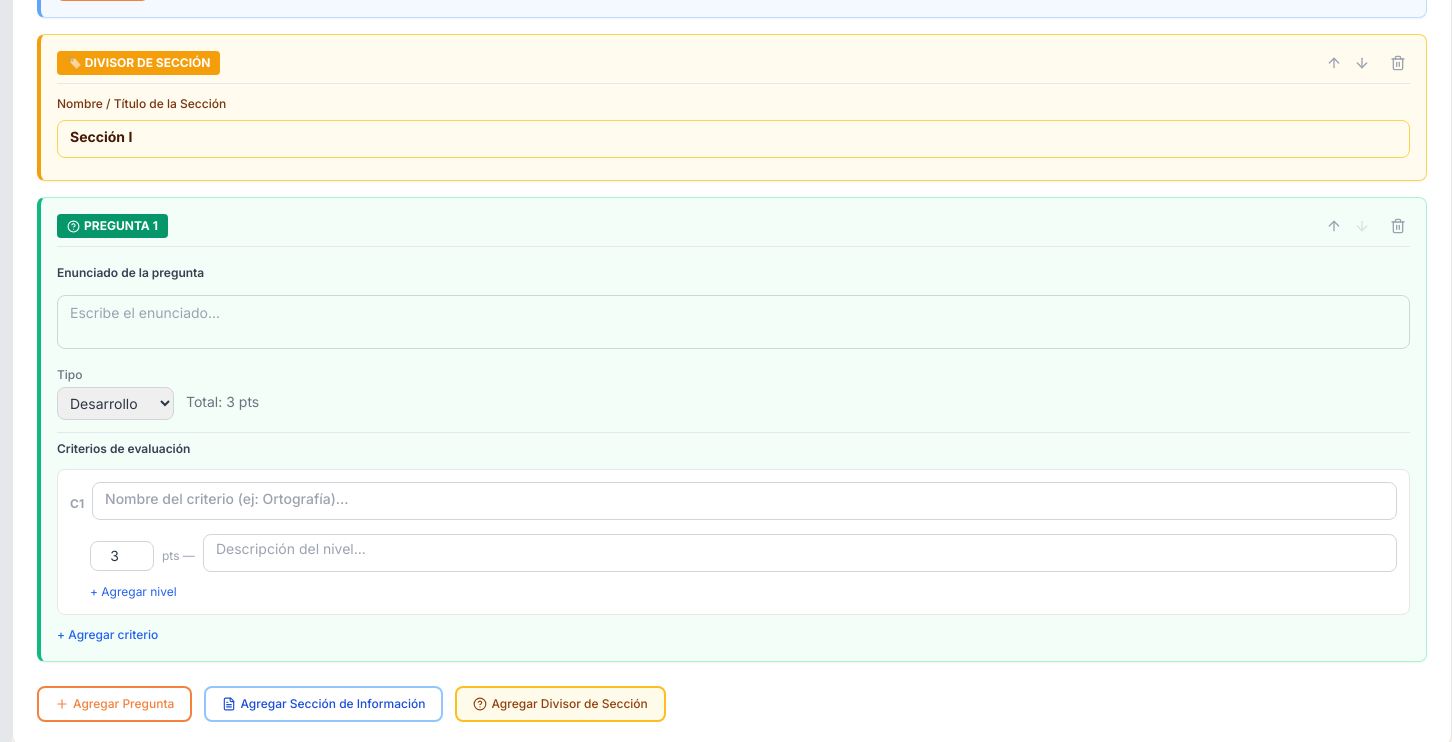
it: NuevaEvaluacionPage (Tiza) › agrega alternativa a pregunta multiple_choice
(page scrolled)
Select "Alternativas" in the dropdown named "Tipo de pregunta 1" at (116, 404), box [57,387,174,420]
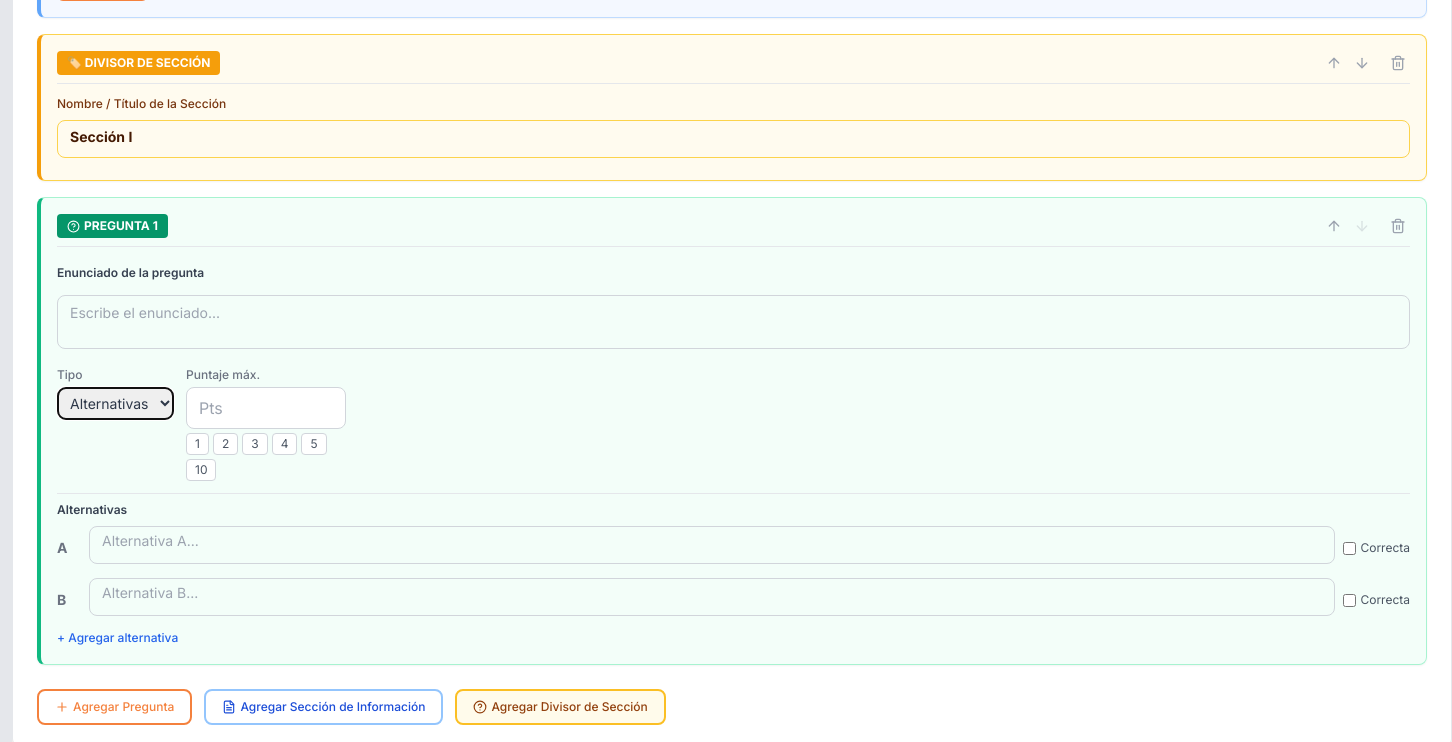
Note: Default: A, B. Add C
Click the button "+ Agregar alternativa" at (118, 638), box [57,630,178,646]
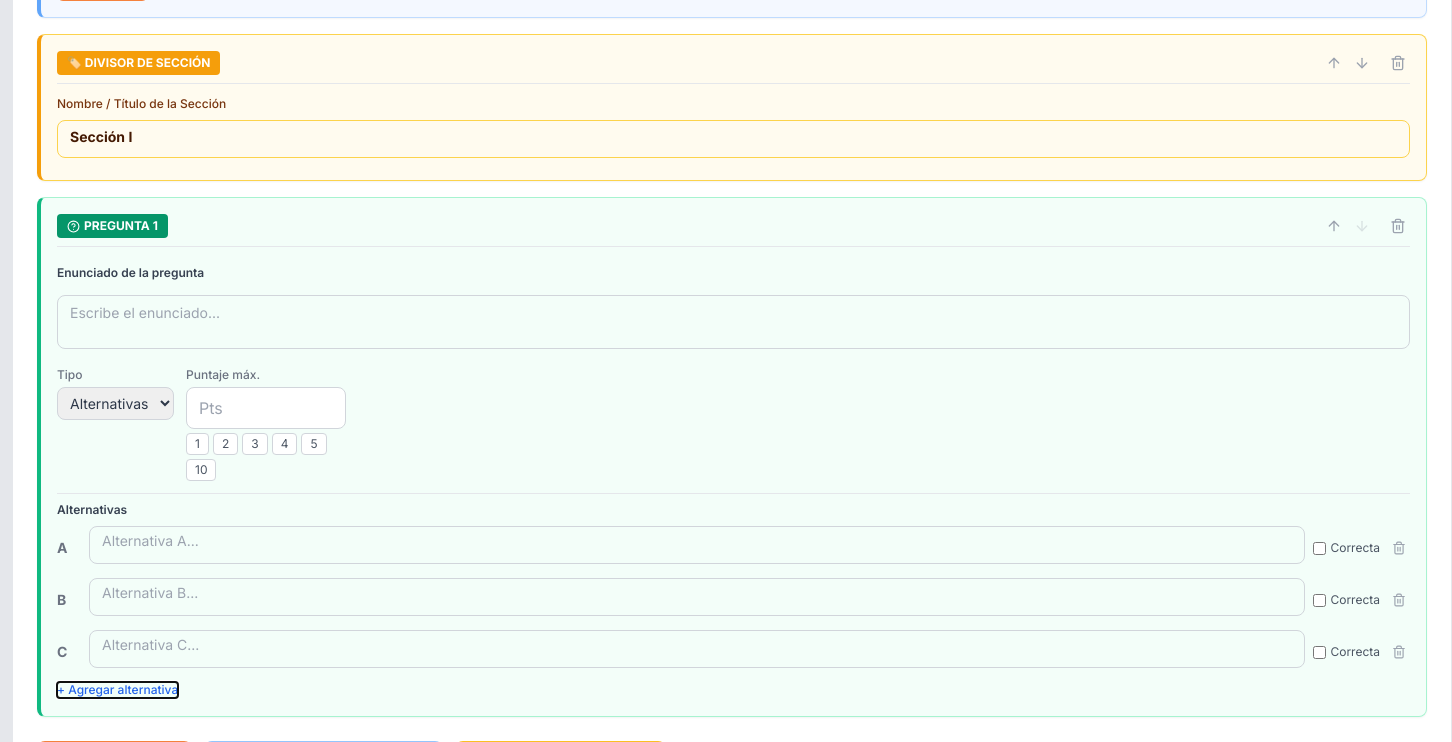
Expected: the text "C" is shown, [57,643,67,660]
